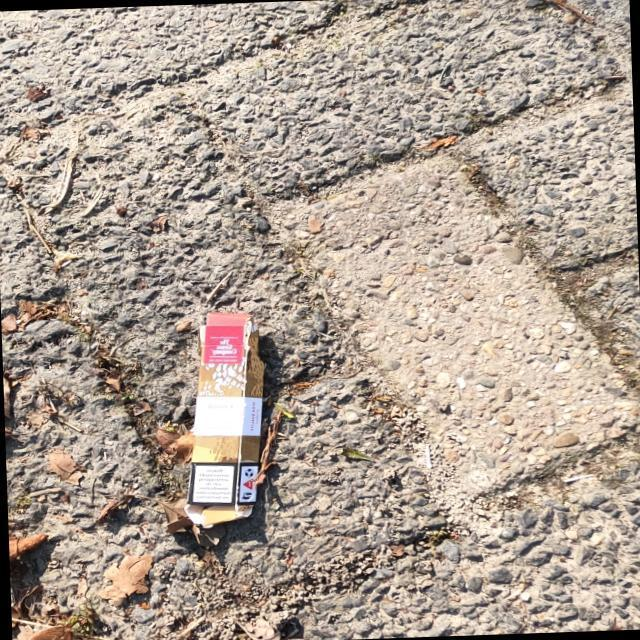Paper: (182, 310, 266, 530)
